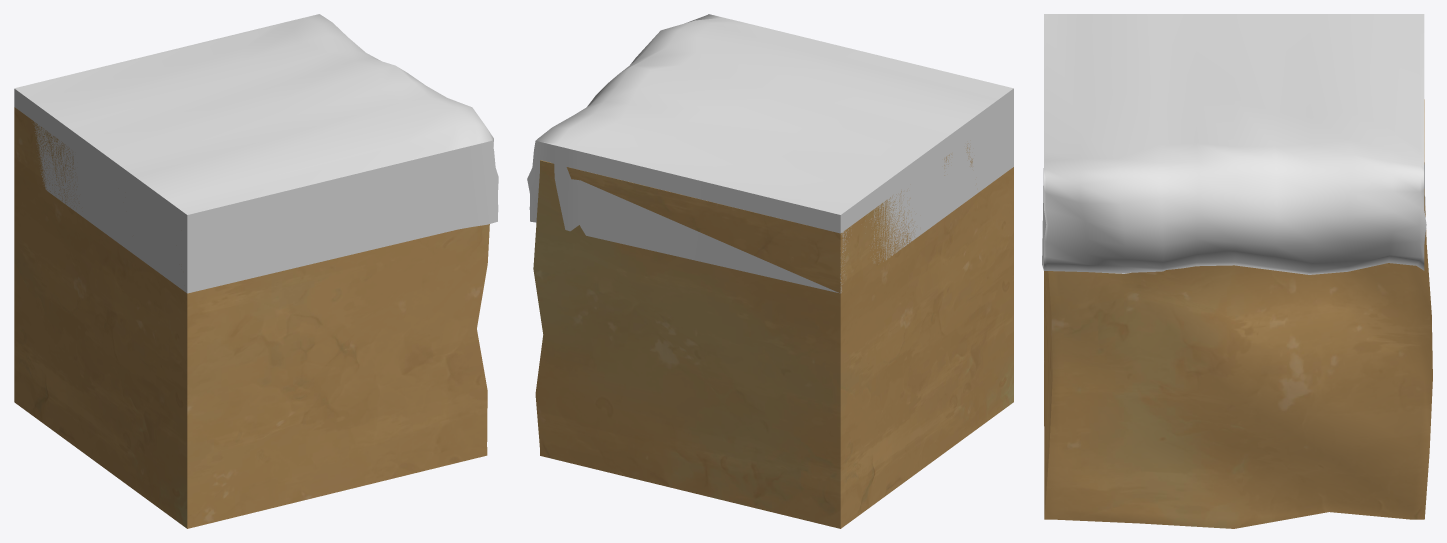
File: RockSnowWall.fbx
The picture shows the model from 3 angles, left to right: view 1: azimuth 30°, elevation 25°; view 2: azimuth 150°, elevation 25°; view 3: azimuth 270°, elevation 25°; orthographic projection. The views are drawn at different scales.
Parts seen in each view (by area): view 1: StoneWall.002, SnowWall.002; view 2: StoneWall.002, SnowWall.002; view 3: SnowWall.002, StoneWall.002.
Part boxes in pixels (x1,y1,x2,y2): StoneWall.002: (14,107,489,528); SnowWall.002: (14,14,498,293); StoneWall.002: (533,143,1013,528); SnowWall.002: (527,14,1013,293); SnowWall.002: (1042,14,1426,274); StoneWall.002: (1044,99,1432,528).
Size of the model in its own units: 225 by 209 by 206.
